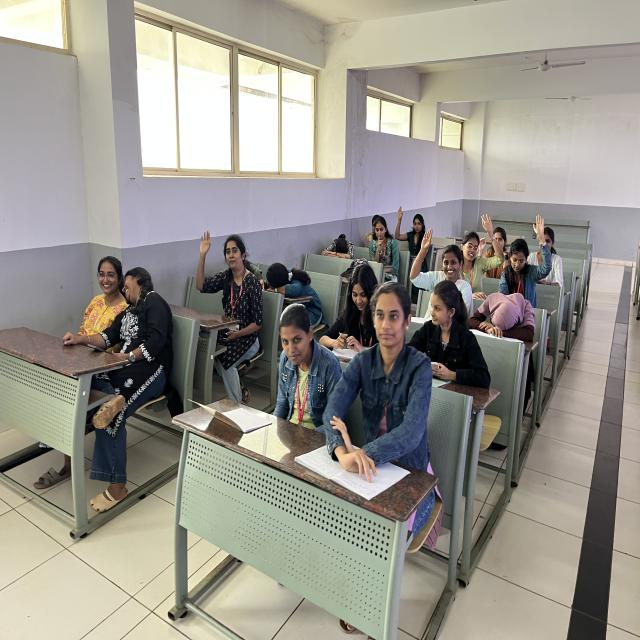Hand Rising: (190, 220, 256, 309), (412, 226, 466, 324), (503, 211, 547, 297), (451, 210, 501, 282), (395, 196, 427, 252)
Reading: (325, 254, 383, 360)
Sleeping: (475, 268, 540, 365), (258, 262, 324, 318), (316, 218, 362, 273)
Using Phone: (85, 244, 172, 382), (412, 268, 483, 408)
